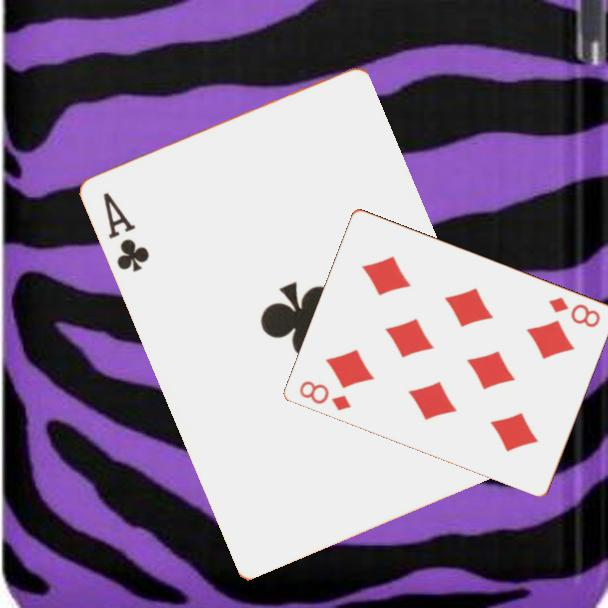c01: (100, 189, 153, 275)
d08: (545, 293, 604, 330), (296, 377, 355, 413)
